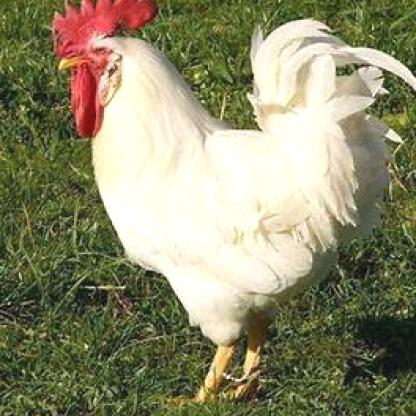chicken: (50, 0, 414, 396)
